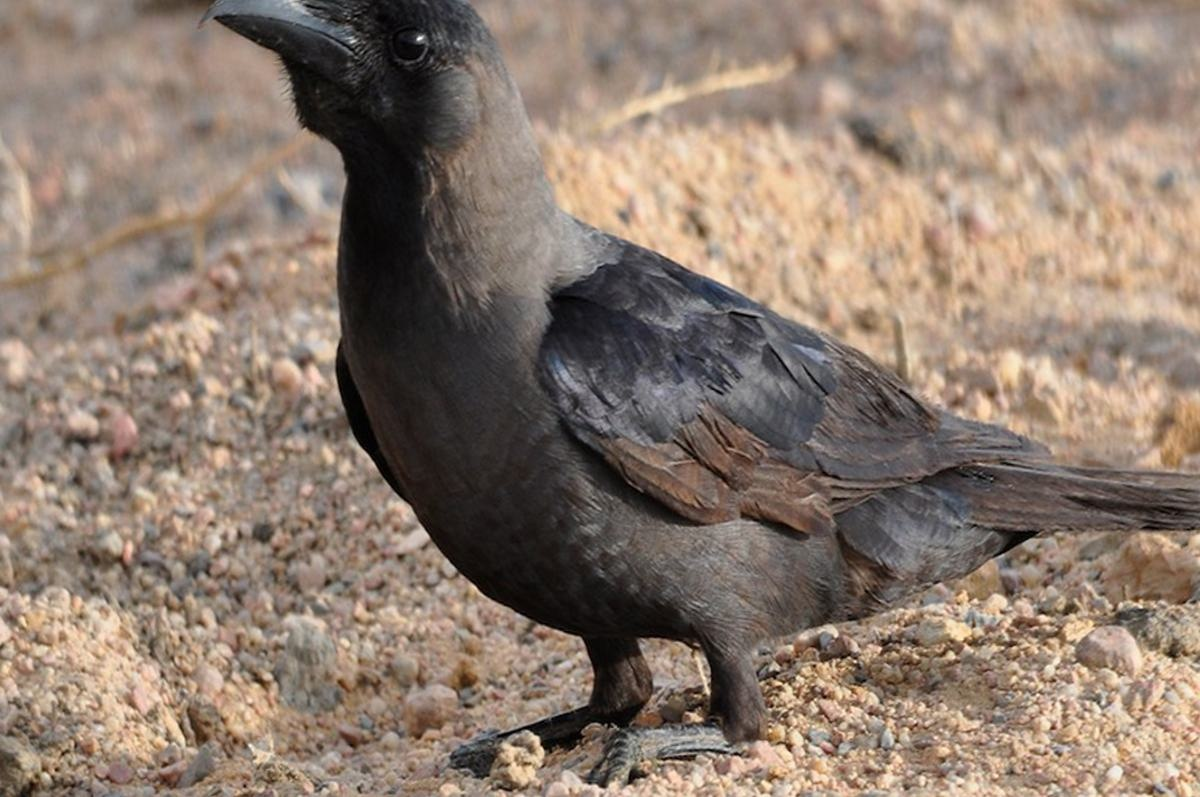crow: (200, 2, 1200, 765)
